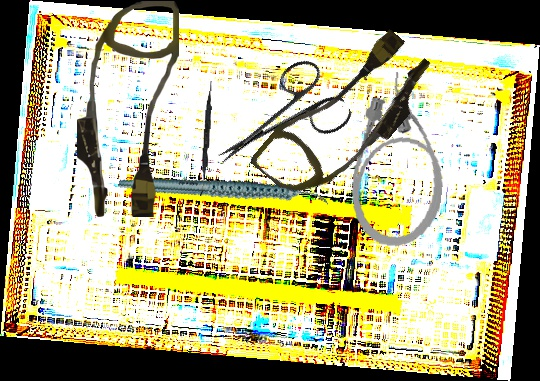Cannula: (248, 14, 444, 221), (77, 1, 179, 217), (345, 68, 456, 252)
Handpiece: (117, 135, 331, 248)
Iris Scissors: (199, 52, 356, 194)
Spatula Surgical: (199, 80, 214, 197)
